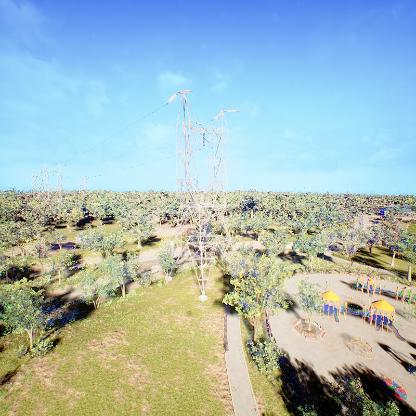tower: (162, 91, 248, 300)
